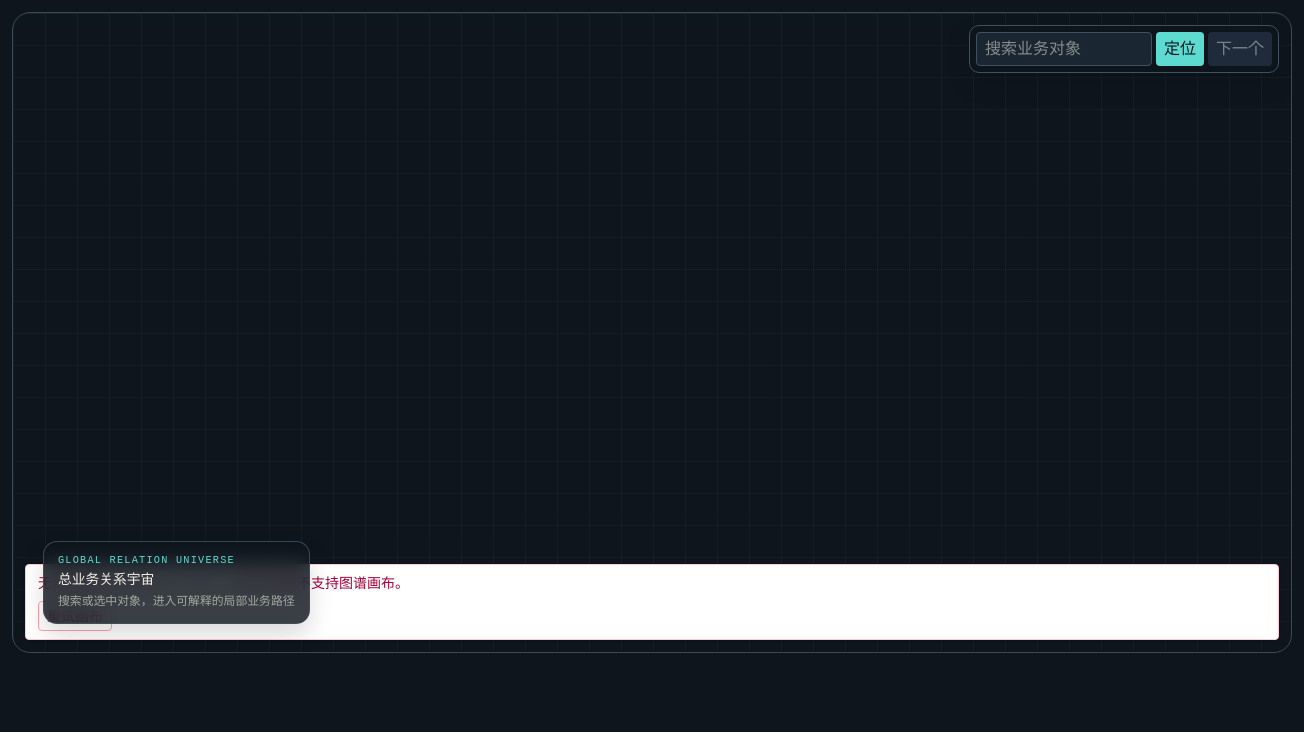
Scenario: GraphCanvas › retries the current scene after a Canvas 2D context becomes available
The image size is (1304, 732).
Expected: the message shows "无法创建 Canvas 2D", [38, 575, 409, 591]
Click the button "重试画布" at (75, 616), box [38, 601, 112, 631]
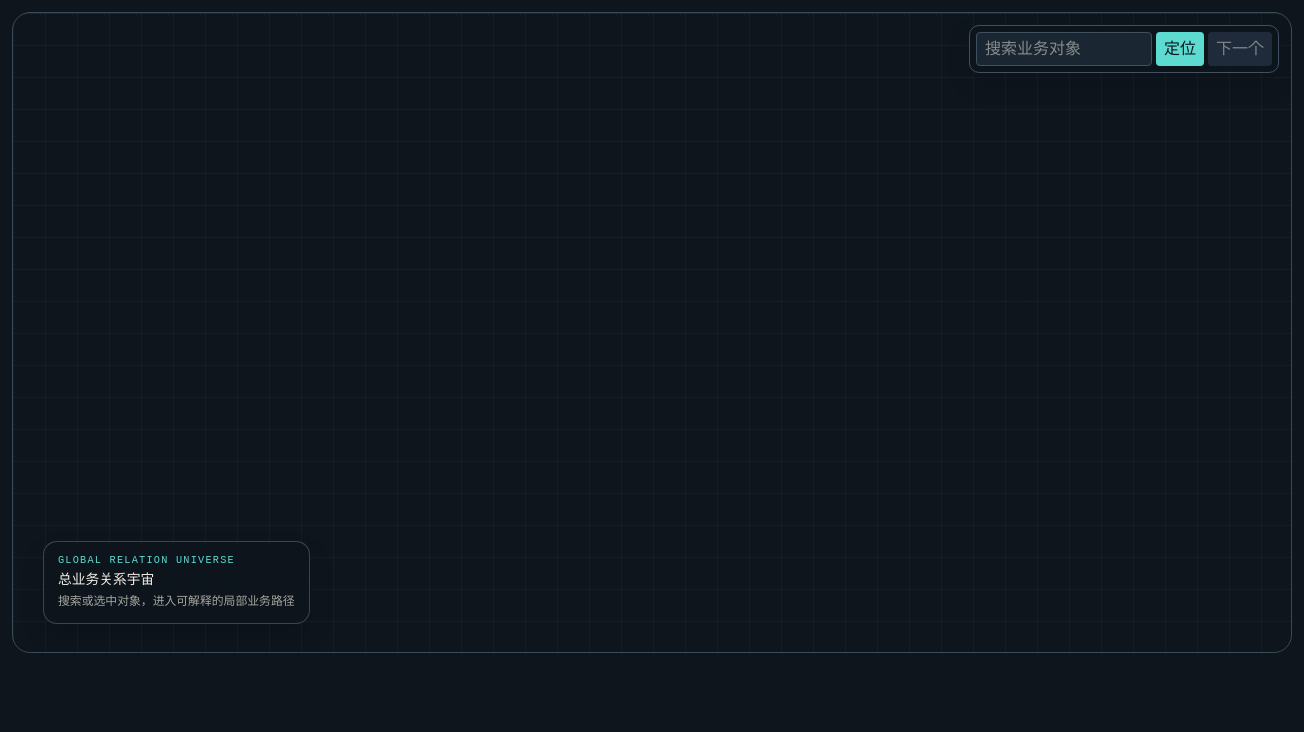
Result: the text "无法创建 Canvas 2D" is gone
